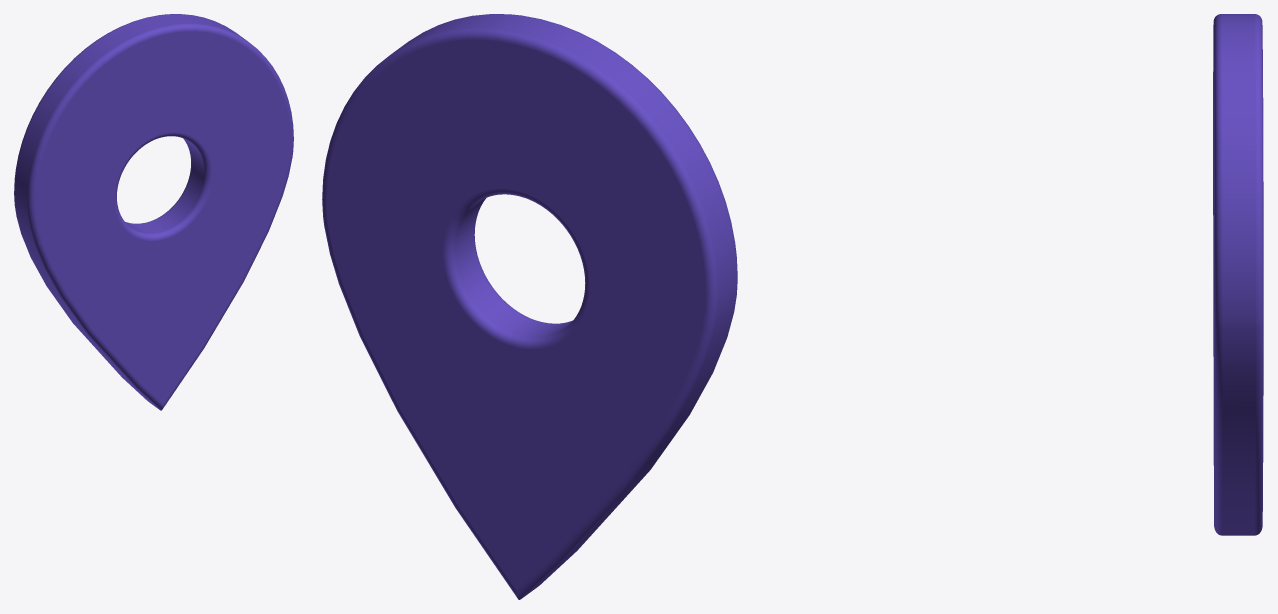
Rendered from EndPin.fbx.
3 renders of one model, left to right at view 1: azimuth 30°, elevation 25°; view 2: azimuth 150°, elevation 25°; view 3: azimuth 270°, elevation 25°, orthographic. The views are drawn at different scales.
Parts seen in each view (by area): view 1: ExtrudeShape_2_1; view 2: ExtrudeShape_2_1; view 3: ExtrudeShape_2_1.
Part boxes in pixels (x1,y1,x2,y2): ExtrudeShape_2_1: (14,14,293,410); ExtrudeShape_2_1: (322,14,737,599); ExtrudeShape_2_1: (1213,14,1263,535).
Bounding box in the file's own units: 909 × 1489 × 927.
